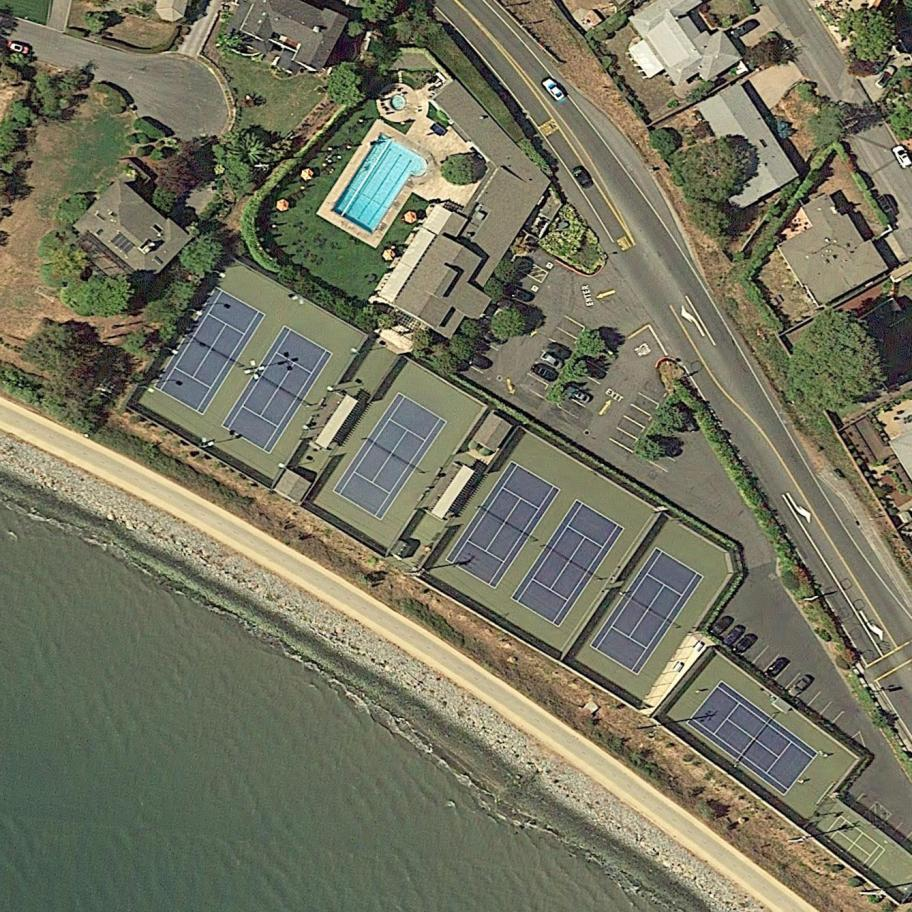small-vehicle: (457, 343, 495, 374), (725, 13, 759, 42), (494, 293, 530, 319), (503, 281, 536, 307), (576, 359, 608, 385), (542, 77, 568, 106), (720, 622, 747, 649), (570, 164, 596, 192), (874, 61, 898, 91), (733, 630, 759, 657), (764, 654, 790, 681), (530, 361, 558, 385), (787, 674, 812, 700), (708, 614, 733, 640), (545, 341, 574, 363), (565, 385, 592, 407), (539, 350, 565, 372), (7, 41, 31, 56)
